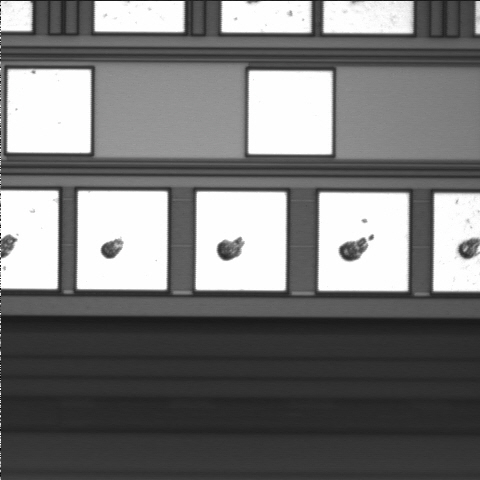pad: (77, 191, 167, 290), (196, 192, 286, 290), (319, 193, 409, 291), (7, 69, 91, 153), (248, 71, 332, 154)
